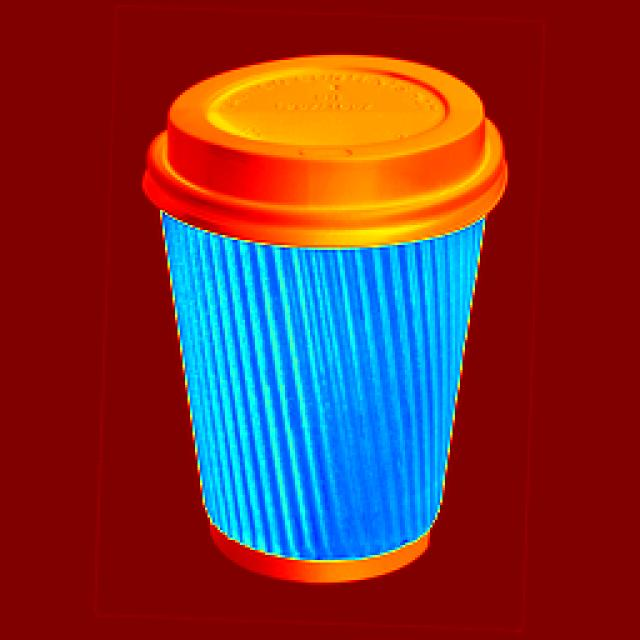Paper Cups: (137, 60, 516, 600)
